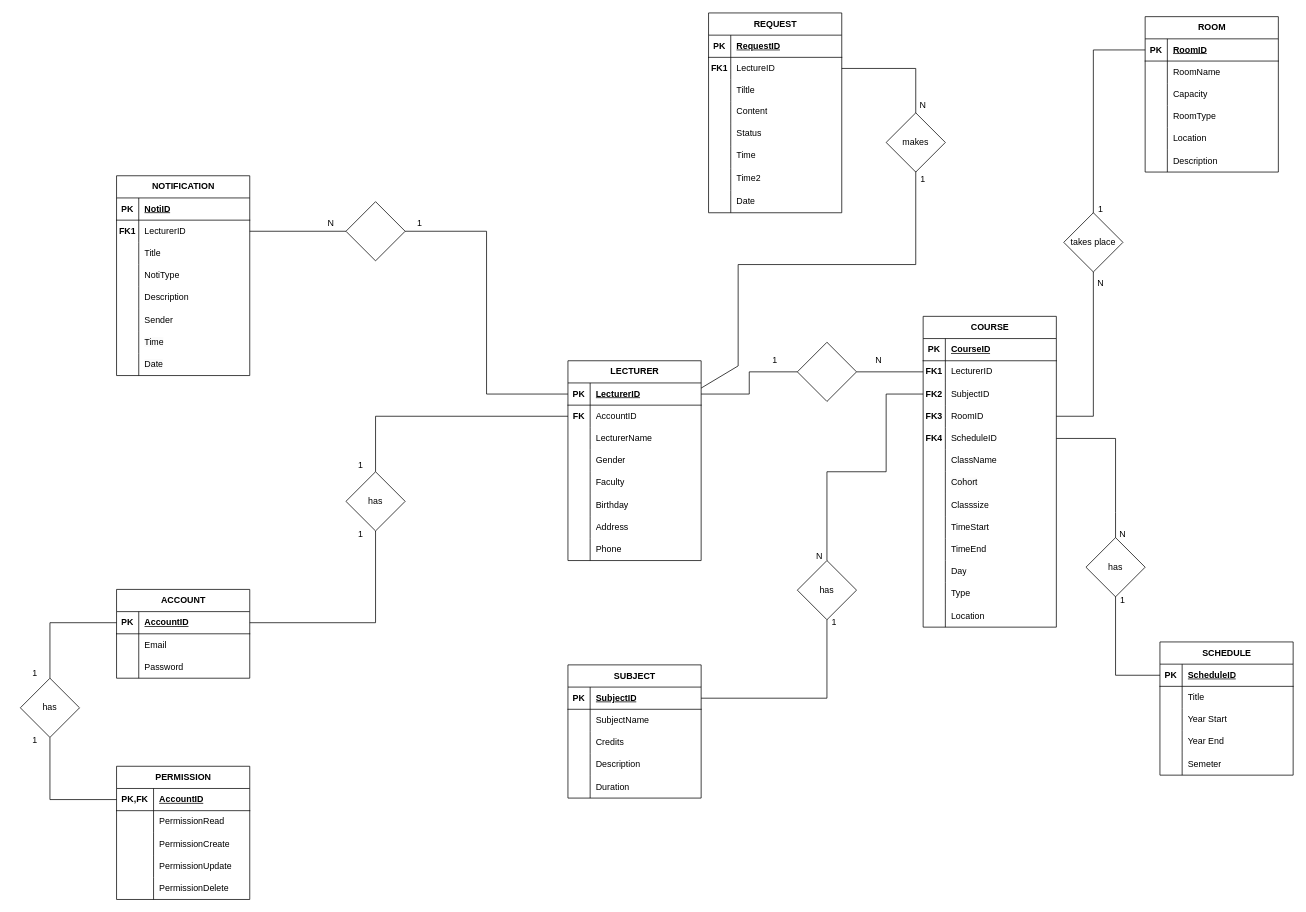
The diagram is 1306 pixels wide and 912 high, and some of its shapes have lost their labels. Each missing label, with the centre of its shape:
"recieves" belongs at point (375, 231).
"teaches" belongs at point (827, 371).
